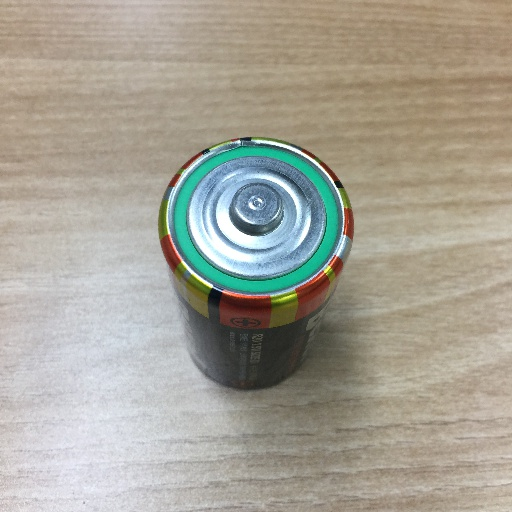Battery_0: (151, 127, 366, 405)
